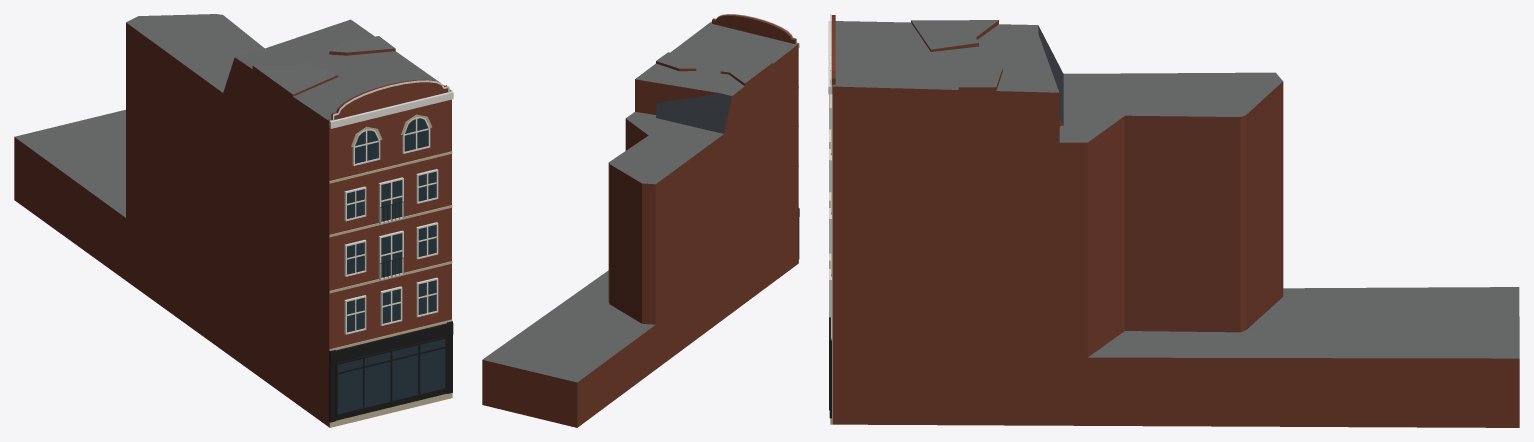
The model's file is recipe-bilder-081118.glb.
The picture shows the model from 3 angles, left to right: view 1: azimuth 30°, elevation 25°; view 2: azimuth 150°, elevation 25°; view 3: azimuth 270°, elevation 25°; orthographic projection. The views are drawn at different scales.
Parts seen in each view (by area): view 1: bilder-081118; view 2: bilder-081118; view 3: bilder-081118.
Boxes of the visible parts, box(x1,y1,x2,y2) form: bilder-081118: box(14, 14, 453, 427); bilder-081118: box(482, 14, 799, 427); bilder-081118: box(828, 14, 1519, 427).
Bounding box in the file's own units: 7.39 × 17.5 × 30.36.
